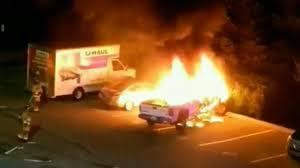fire: (124, 54, 240, 124)
